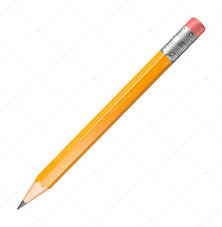Lapiz: (10, 9, 214, 211)
